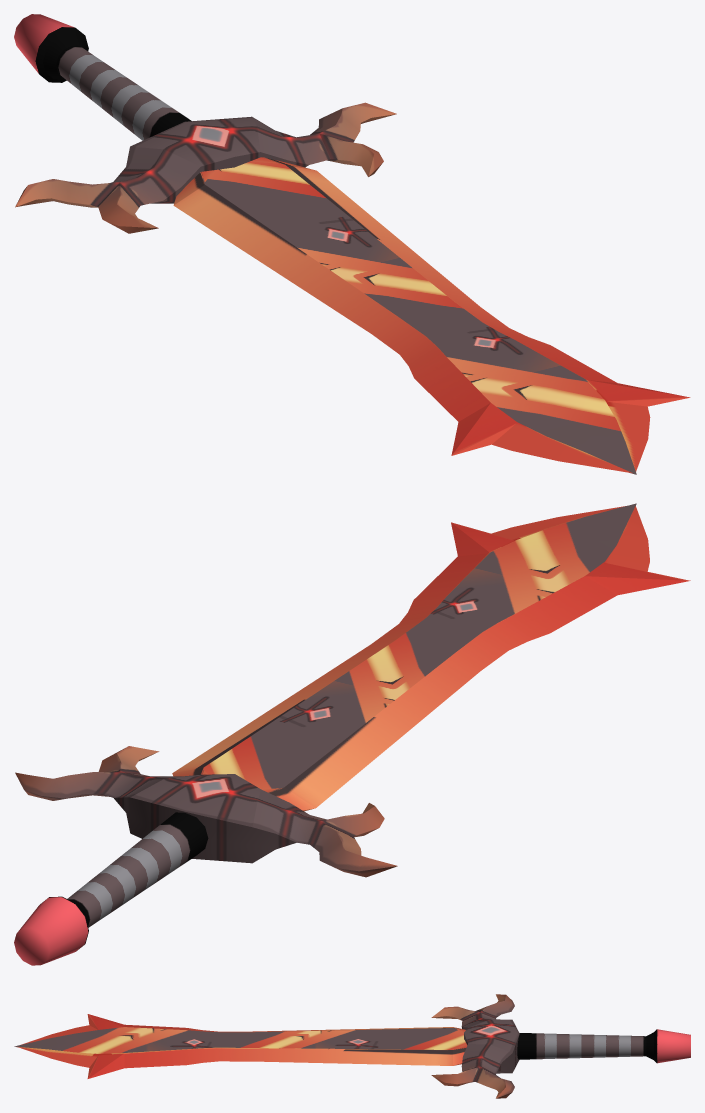
File: weapon_06.FBX
The picture shows the model from 3 angles, top to bottom: view 1: azimuth 30°, elevation 25°; view 2: azimuth 150°, elevation 25°; view 3: azimuth 270°, elevation 25°; orthographic projection. The views are drawn at different scales.
Visible parts, largest first — view 1: Line003, aura; view 2: Line003, aura; view 3: Line003, aura.
Boxes of the visible parts, left/top/right/bottom form: Line003: left=14, top=14, right=690, bottom=473; aura: left=200, top=157, right=636, bottom=474; Line003: left=14, top=506, right=690, bottom=965; aura: left=201, top=503, right=636, bottom=792; Line003: left=17, top=994, right=690, bottom=1098; aura: left=14, top=1027, right=466, bottom=1053.
Bounding box in the file's own units: 7.21 × 1.12 × 19.73.
